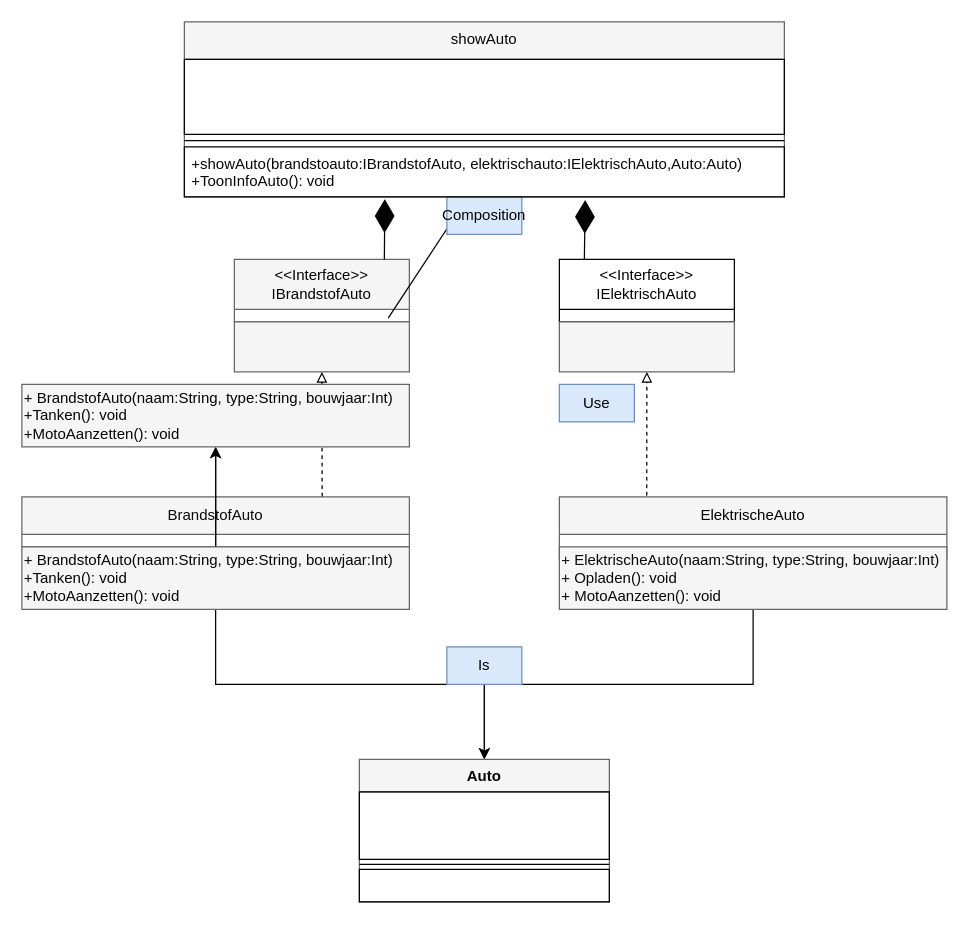
The diagram is 969 pixels wide and 928 high, and some of its shapes have lost their labels. The shapes that lost their labels are listed below. From the top down, each one's centre as x and y in pixels, then its label:
pixel 483 96: - BrandstoAuto: IBrandstofAuto; - ElektrischAuto: IElektrischAuto; - Auto: Auto;
pixel 321 346: +Tanken(): void +MotoAan(): void
pixel 646 346: +Opladen(): void +MotoAanzetten(): void
pixel 483 825: - Naam : String - Type : String - Bouwjaar : Int
pixel 483 885: + MotoAanzetten(): void
